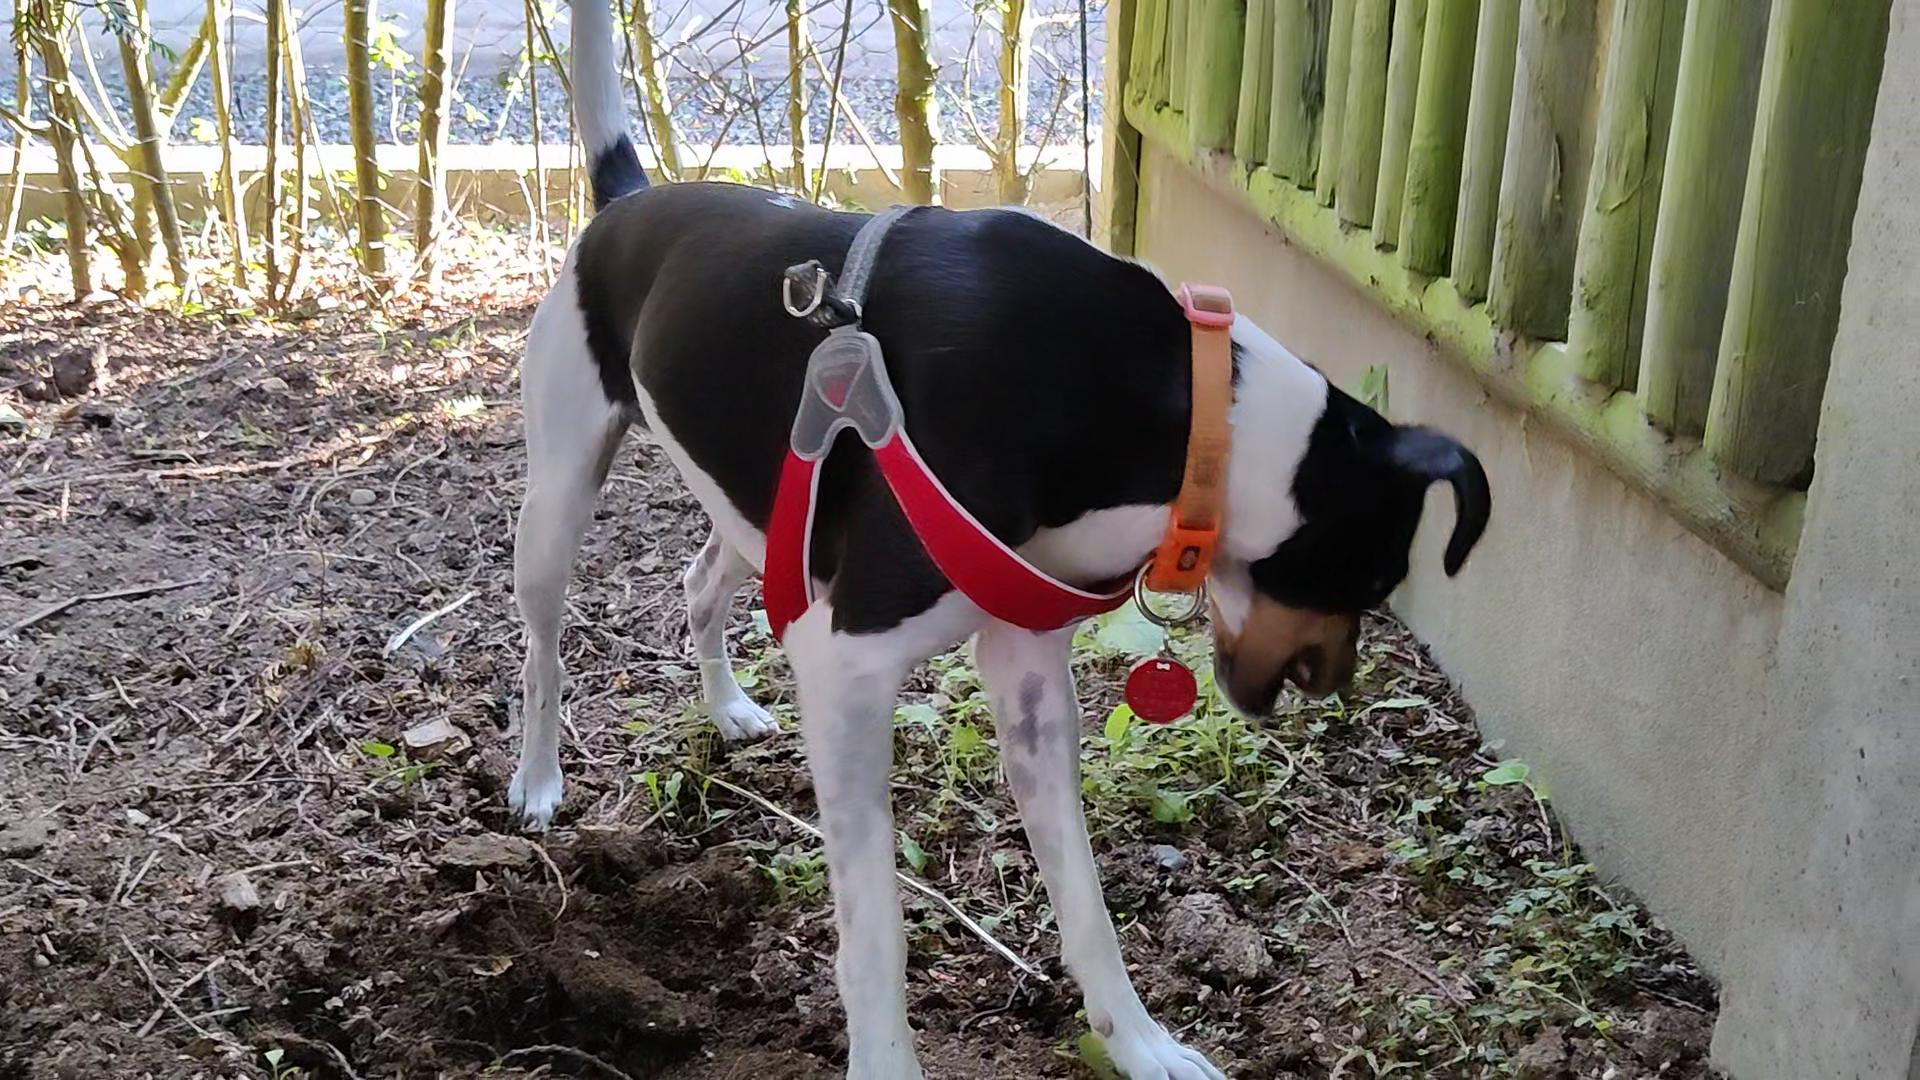Dog: (485, 0, 1501, 1080)
